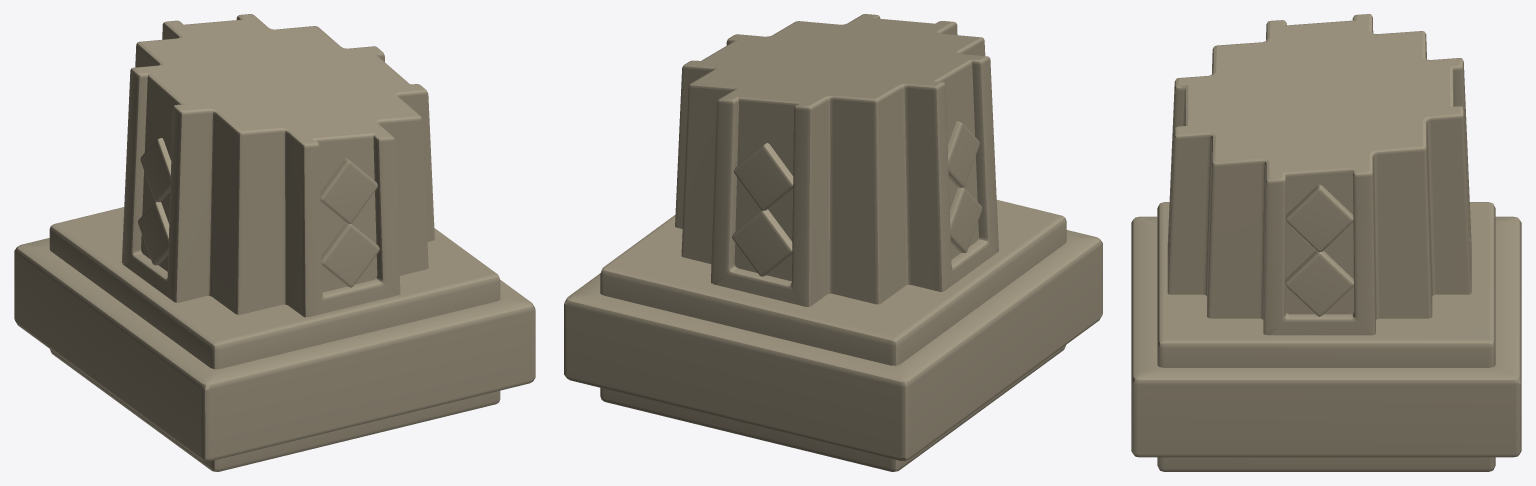
The model's file is TemplePillarA_001.fbx.
The picture shows the model from 3 angles, left to right: view 1: azimuth 30°, elevation 25°; view 2: azimuth 150°, elevation 25°; view 3: azimuth 270°, elevation 25°; orthographic projection. The views are drawn at different scales.
Visible parts, largest first — view 1: TemplePillarA_001; view 2: TemplePillarA_001; view 3: TemplePillarA_001.
Part boxes in pixels (left/top/right/bottom): TemplePillarA_001: left=14, top=14, right=535, bottom=471; TemplePillarA_001: left=564, top=14, right=1102, bottom=471; TemplePillarA_001: left=1131, top=14, right=1521, bottom=471.
Bounding box in the file's own units: 1.16 × 1.08 × 1.16.
